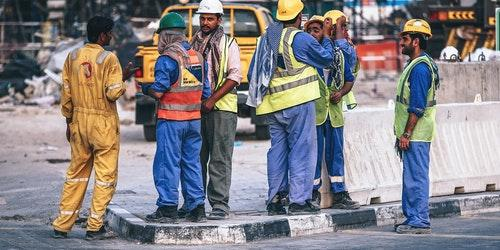helmet: (158, 12, 188, 36), (400, 19, 435, 38), (278, 1, 307, 21), (324, 10, 351, 30), (197, 1, 226, 16), (305, 14, 329, 30)
